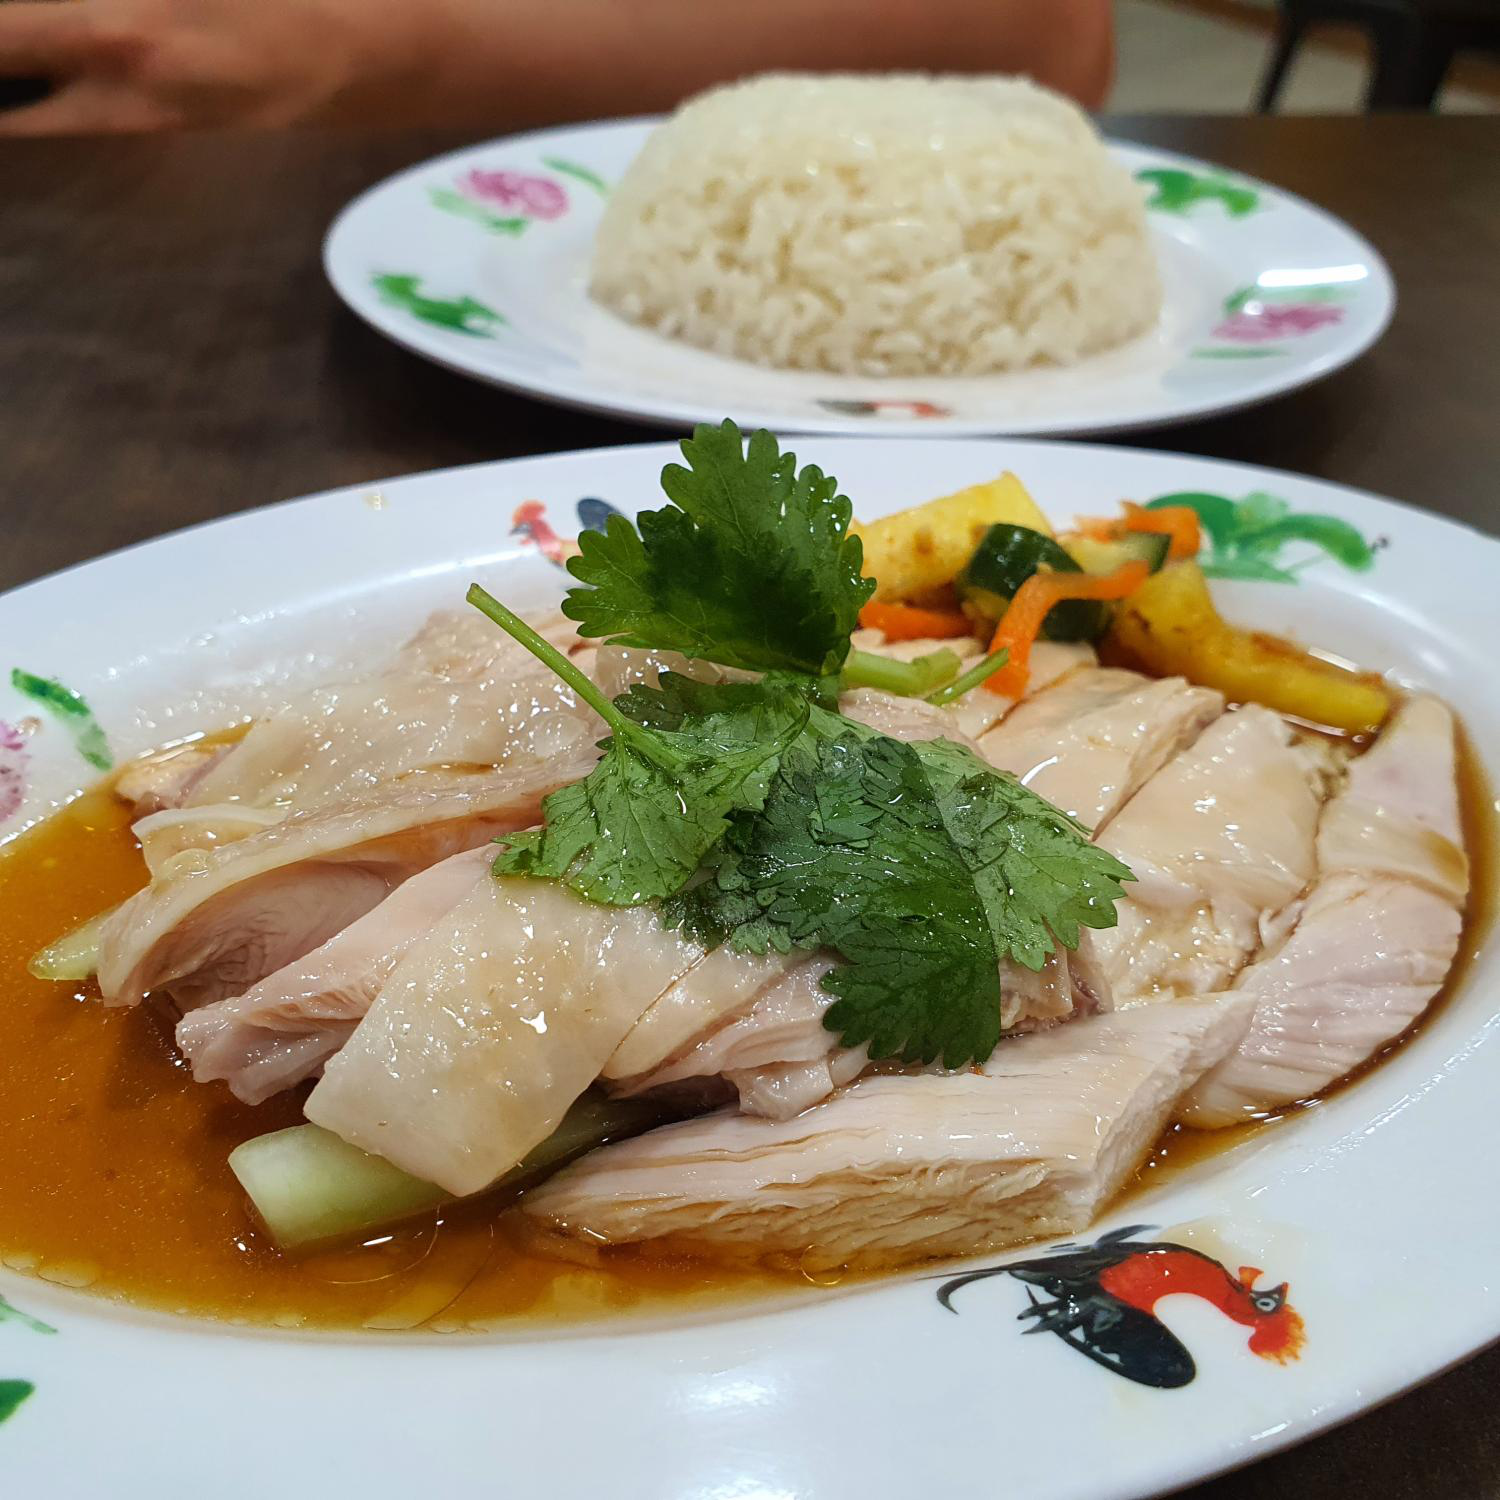Steamed Chicken Rice: (93, 576, 1466, 1284)
